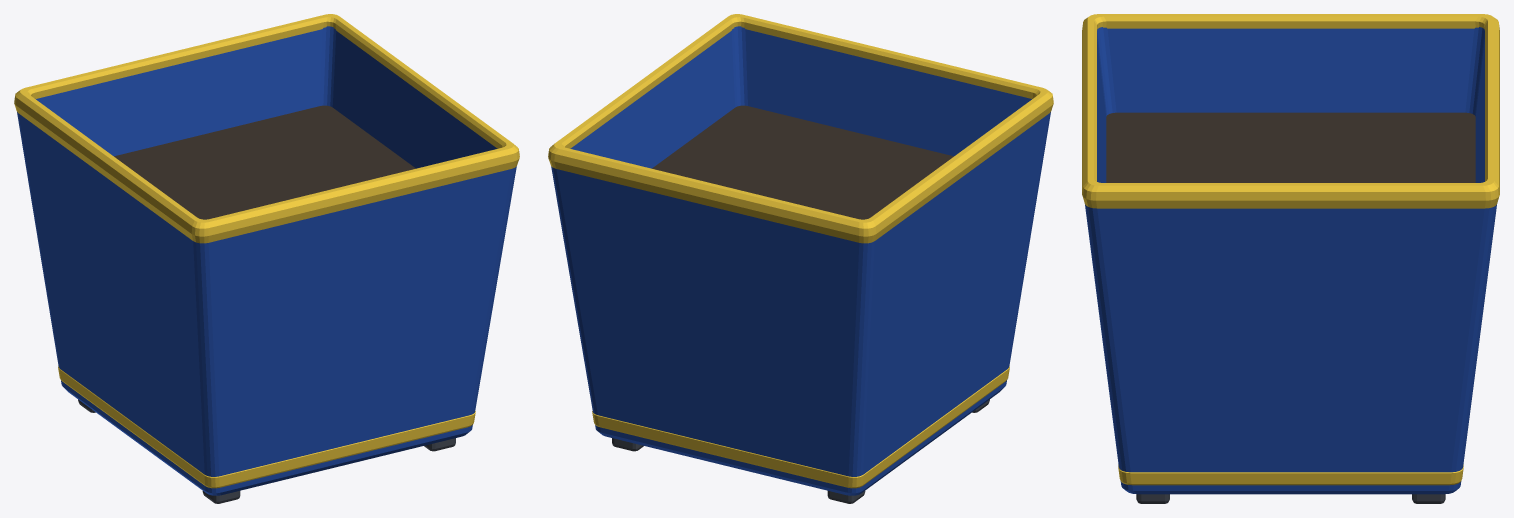
File: bargain-tub.glb
3 views of the same model, side by side, from view 1: azimuth 30°, elevation 25°; view 2: azimuth 150°, elevation 25°; view 3: azimuth 270°, elevation 25° (orthographic). The views are drawn at different scales.
Parts seen in each view (by area): view 1: bargain-tub; view 2: bargain-tub; view 3: bargain-tub.
Part boxes in pixels (x1,y1,x2,y2): bargain-tub: (14,14,519,503); bargain-tub: (548,14,1053,503); bargain-tub: (1082,14,1499,503).
Size of the model in its own units: 3 by 2.7 by 3.
